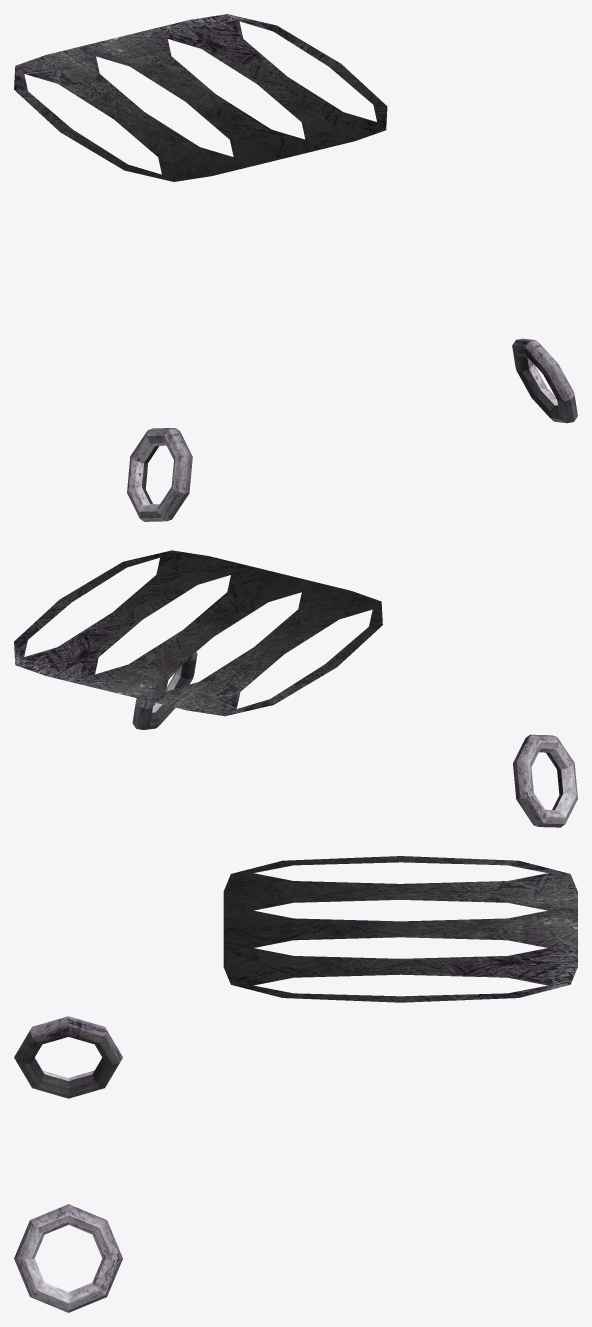
Rendered from Handle.fbx.
The picture shows the model from 3 angles, top to bottom: view 1: azimuth 30°, elevation 25°; view 2: azimuth 150°, elevation 25°; view 3: azimuth 270°, elevation 25°; orthographic projection. The views are drawn at different scales.
Parts seen in each view (by area): view 1: Plane.006, Torus.003; view 2: Plane.006, Torus.003; view 3: Plane.006, Torus.003.
Boxes of the visible parts, bbox=[...] form: Plane.006: bbox=[14, 14, 387, 181]; Torus.003: bbox=[127, 338, 577, 521]; Plane.006: bbox=[14, 550, 382, 716]; Torus.003: bbox=[132, 652, 577, 827]; Plane.006: bbox=[223, 856, 577, 1002]; Torus.003: bbox=[14, 1016, 122, 1312].
Bounding box in the file's own units: 275 × 160 × 295.
